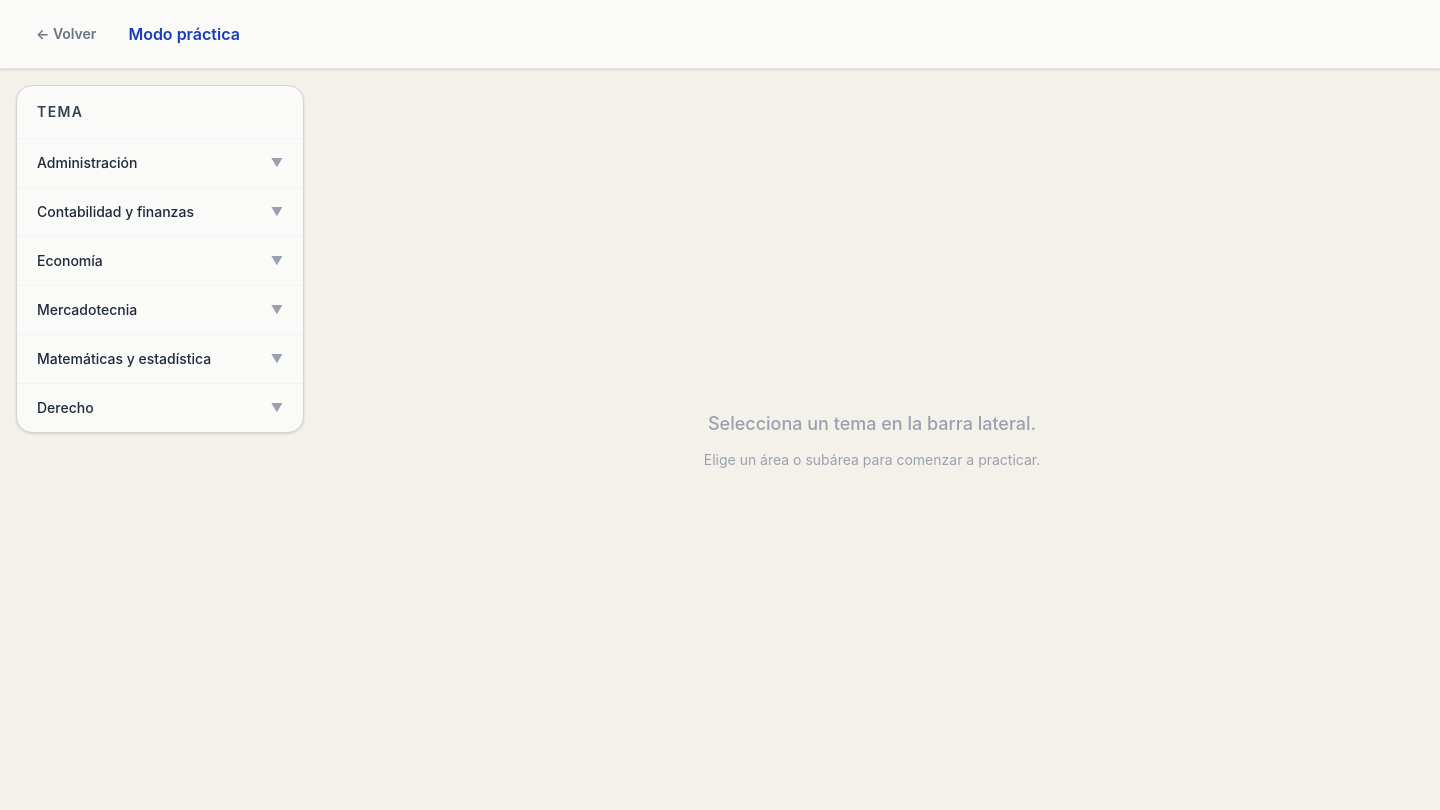
Test: PracticaContainer — selección de tema › al seleccionar un tema carga y muestra el primer reactivo
Click the button "Administración ▼": (87, 162) [17,139,303,187]
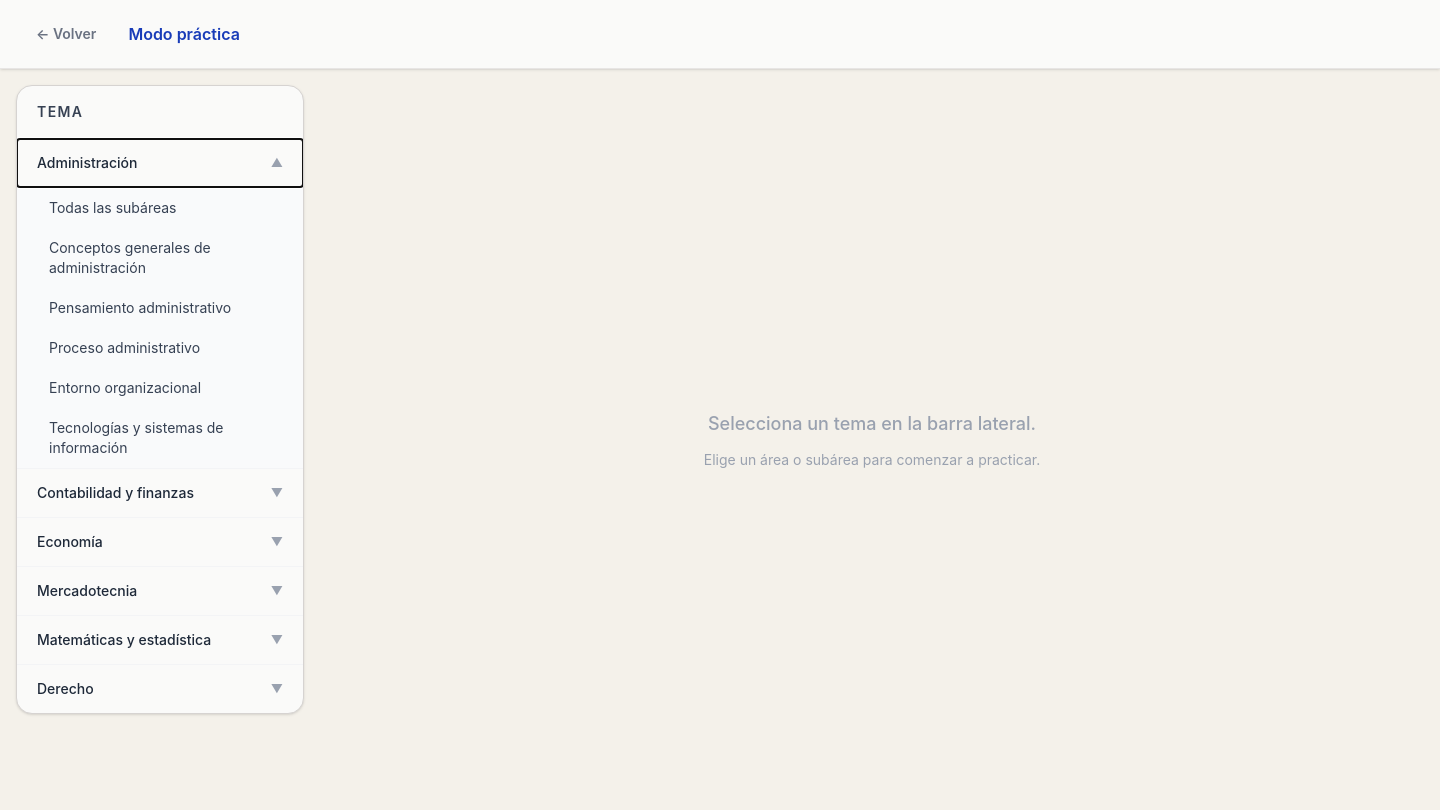
Click the button "Todas las subáreas": (160, 208) [17,188,303,228]
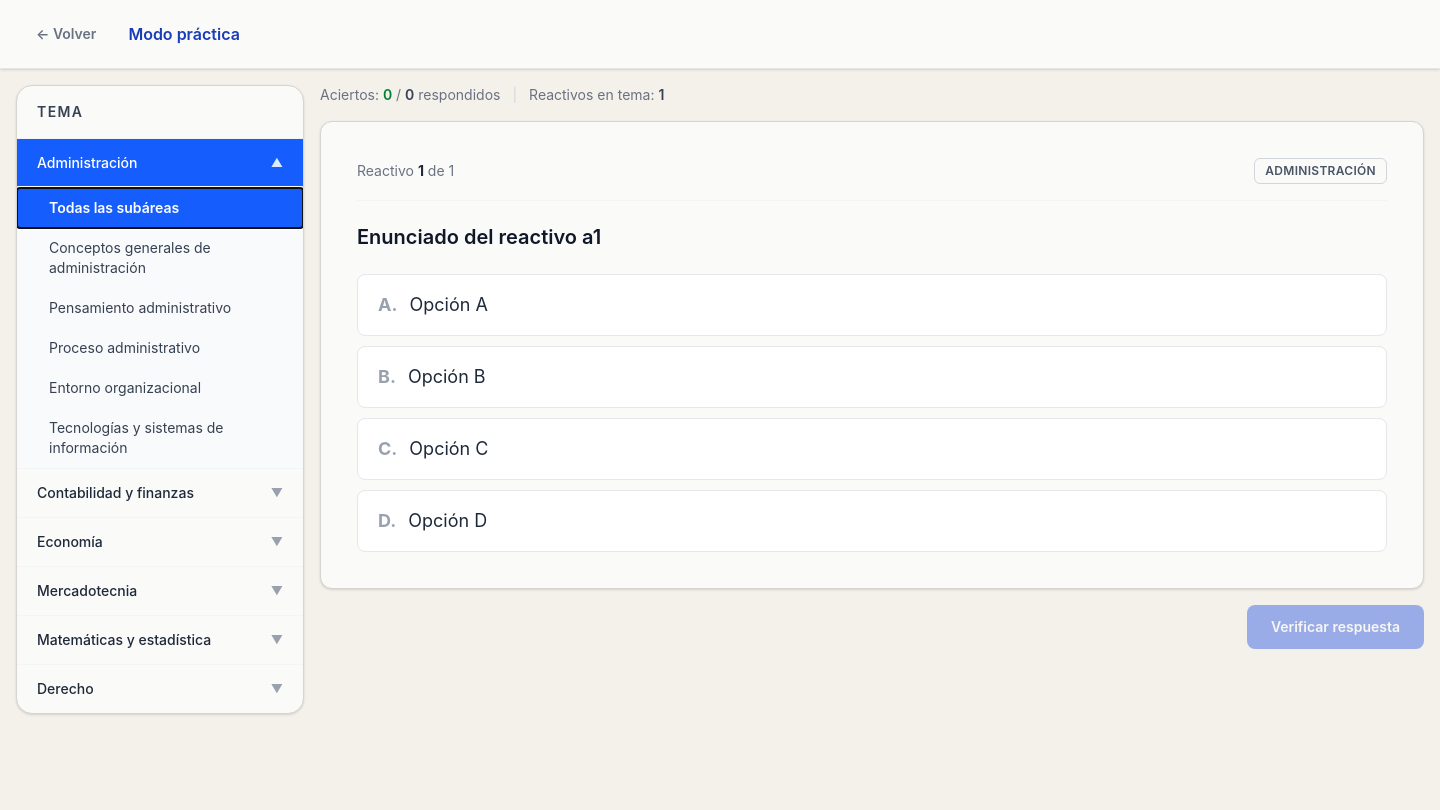
Check: the text "Enunciado del reactivo a1" is shown, box [357,225,601,249]
